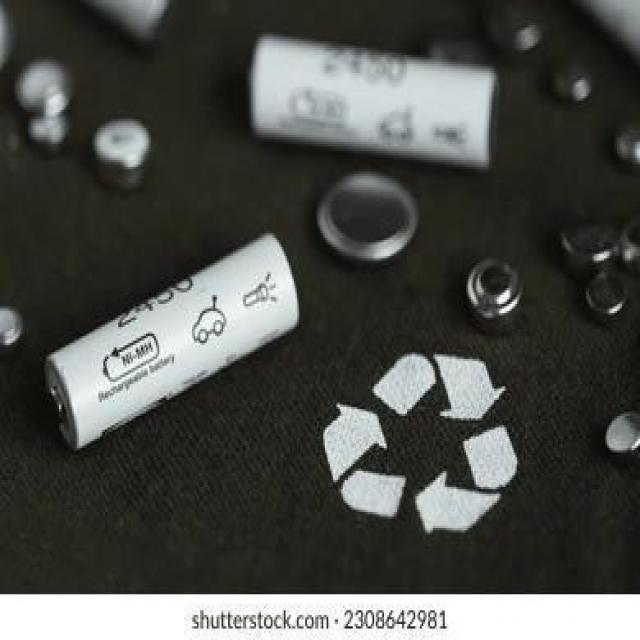AA: (43, 229, 302, 451), (247, 32, 502, 170)
COIN: (316, 166, 422, 264), (465, 256, 526, 338)
